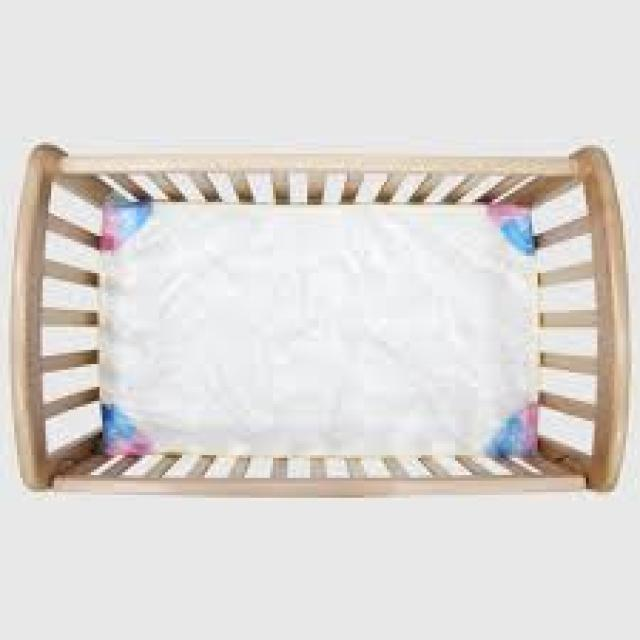crib: (9, 139, 632, 495)
